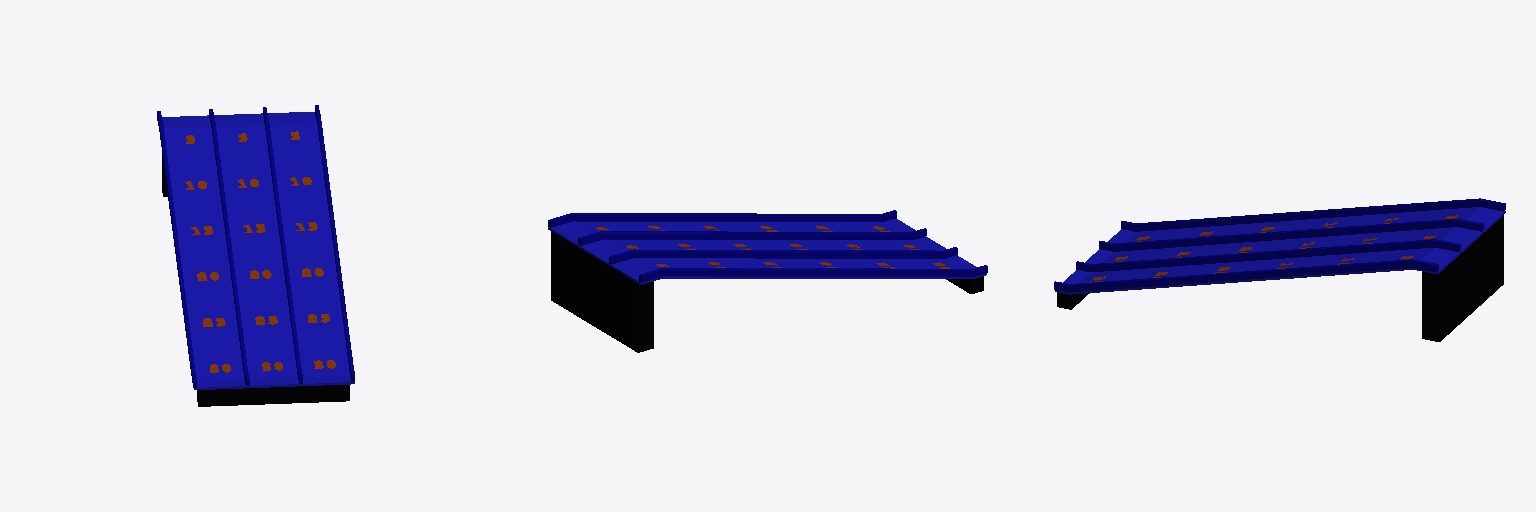
3 renders of one model, left to right at view 1: azimuth 30°, elevation 25°; view 2: azimuth 150°, elevation 25°; view 3: azimuth 270°, elevation 25°, orthographic.
Parts seen in each view (by area): view 1: Object75051, Line[number redacted], Object75050, Line[number redacted], Object75052, Line[number redacted], Text045, Text044, Text043; view 2: Line[number redacted], Line[number redacted], Line[number redacted], Object75051, Object75050, Object75052; view 3: Line[number redacted], Line[number redacted], Object75050, Object75051, Line[number redacted], Object75052.
Part boxes in pixels (bbox=[...]): Object75051: bbox=[214, 113, 300, 387]; Line[number redacted]: bbox=[162, 115, 247, 389]; Object75050: bbox=[268, 112, 354, 385]; Line[number redacted]: bbox=[157, 105, 354, 387]; Object75052: bbox=[166, 123, 346, 380]; Line[number redacted]: bbox=[162, 155, 349, 406]; Text045: bbox=[185, 135, 230, 372]; Text044: bbox=[237, 133, 282, 370]; Text043: bbox=[290, 131, 335, 368]; Line[number redacted]: bbox=[548, 210, 987, 282]; Line[number redacted]: bbox=[551, 231, 983, 352]; Line[number redacted]: bbox=[610, 255, 986, 284]; Object75051: bbox=[579, 237, 945, 265]; Object75050: bbox=[548, 218, 915, 247]; Object75052: bbox=[574, 222, 949, 262]; Line[number redacted]: bbox=[1054, 198, 1505, 292]; Line[number redacted]: bbox=[1057, 215, 1503, 341]; Object75050: bbox=[1055, 248, 1460, 294]; Object75051: bbox=[1085, 227, 1482, 263]; Line[number redacted]: bbox=[1108, 207, 1505, 242]; Object75052: bbox=[1087, 208, 1477, 276].
Size of the model in its own units: 253 by 102 by 351.